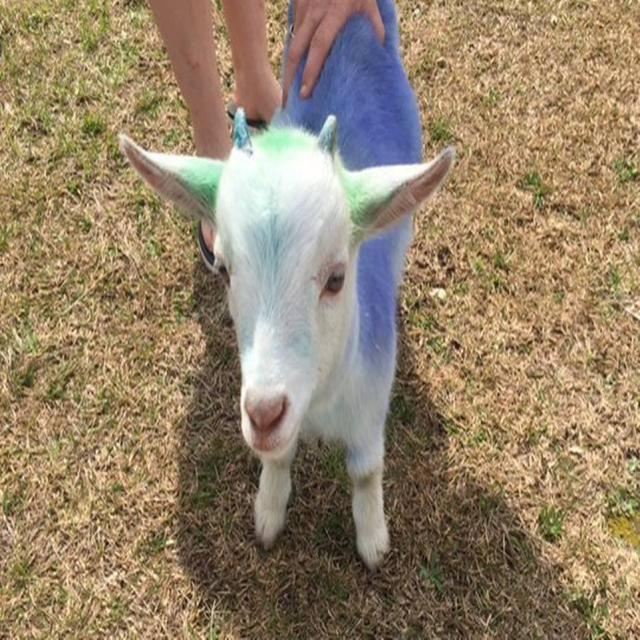Goat: (112, 120, 448, 560)
